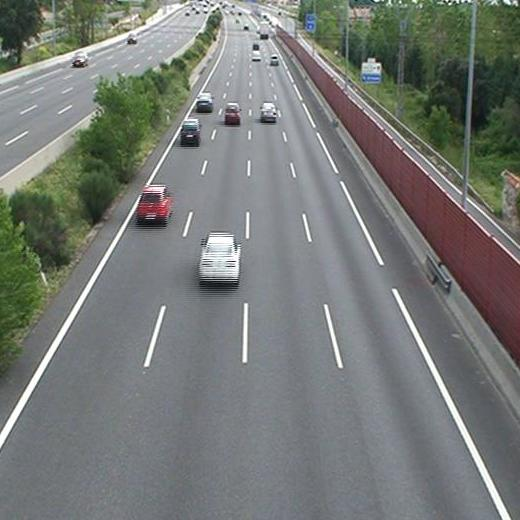car: (200, 233, 239, 281), (137, 187, 170, 219), (181, 120, 199, 142), (261, 103, 276, 120), (196, 93, 213, 108), (225, 103, 239, 121), (269, 55, 279, 65), (252, 51, 261, 61)
truck: (261, 20, 269, 37)
